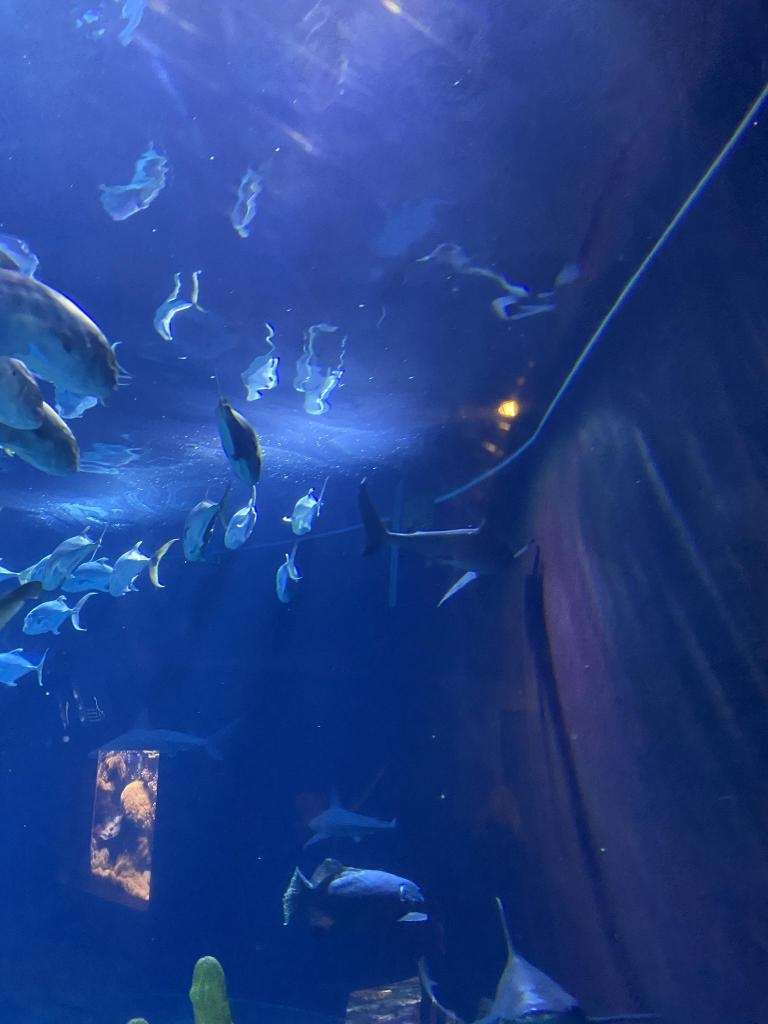fish: (1, 268, 119, 398), (283, 856, 429, 936), (1, 399, 81, 475), (42, 522, 110, 588), (182, 478, 232, 562), (111, 538, 180, 598), (23, 592, 100, 634), (1, 356, 44, 430), (62, 557, 138, 595), (284, 477, 330, 537), (224, 483, 256, 549), (1, 648, 50, 686), (276, 538, 304, 602)
shark: (353, 470, 552, 612), (468, 897, 661, 1023), (88, 708, 246, 760), (304, 787, 396, 849)
stingray: (216, 397, 262, 485)
